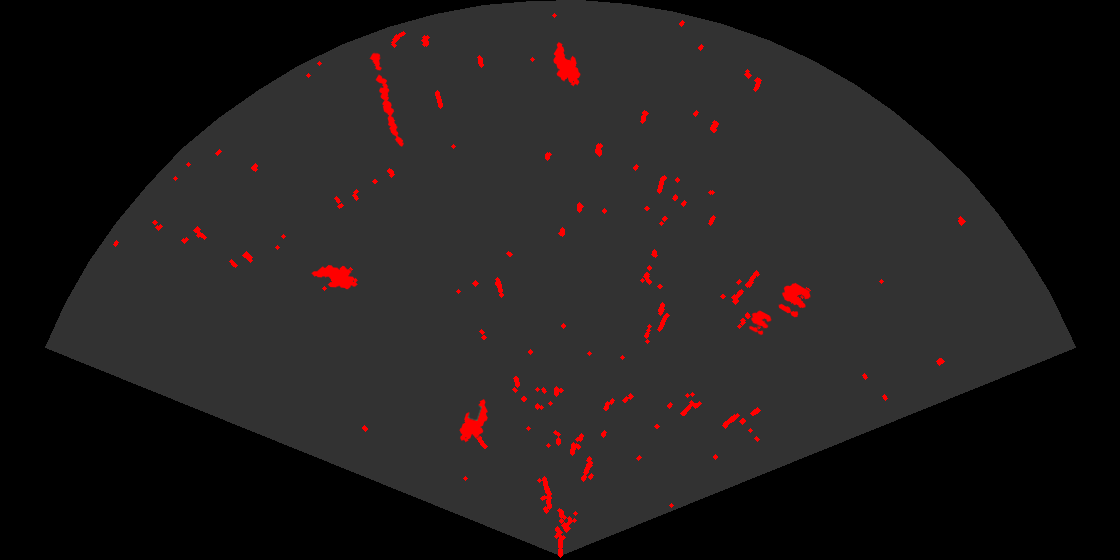AUV: (458, 397, 489, 444), (552, 41, 582, 88), (310, 263, 359, 291)
ball: (777, 281, 812, 319), (747, 309, 773, 337)
chain: (368, 50, 405, 148)
